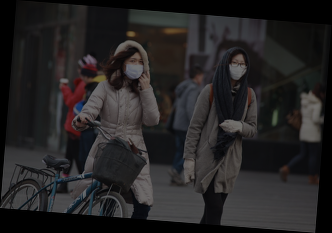with_mask: (124, 56, 145, 80), (228, 58, 248, 81)
